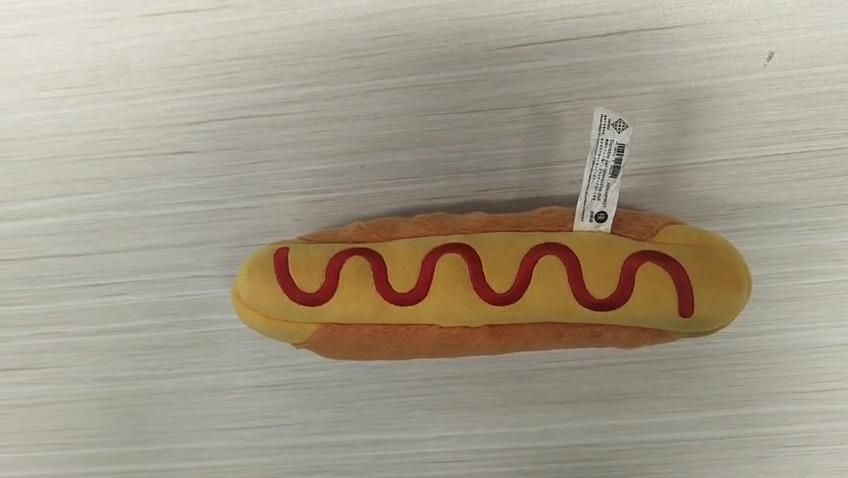hotdog: (231, 203, 753, 361)
